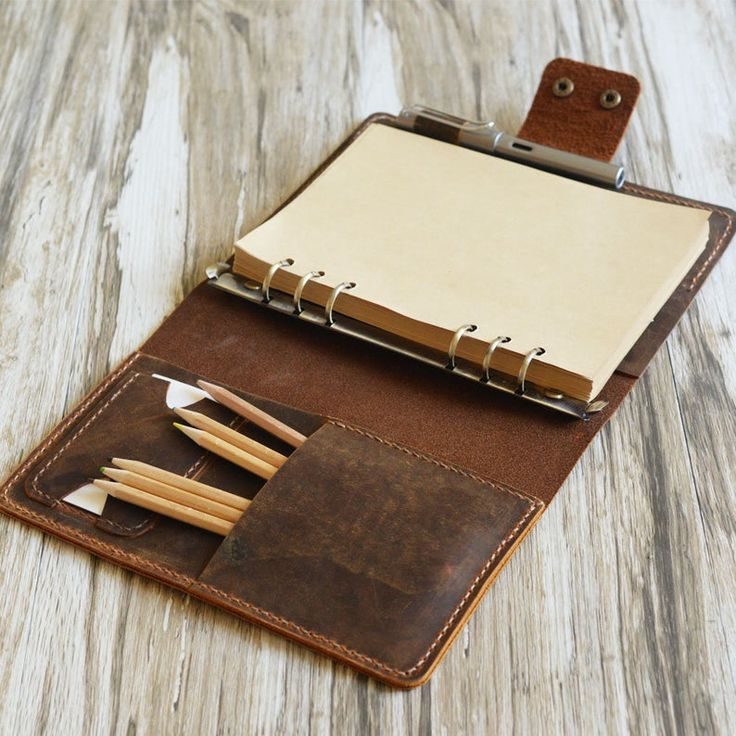cuero: (1, 56, 736, 691)
